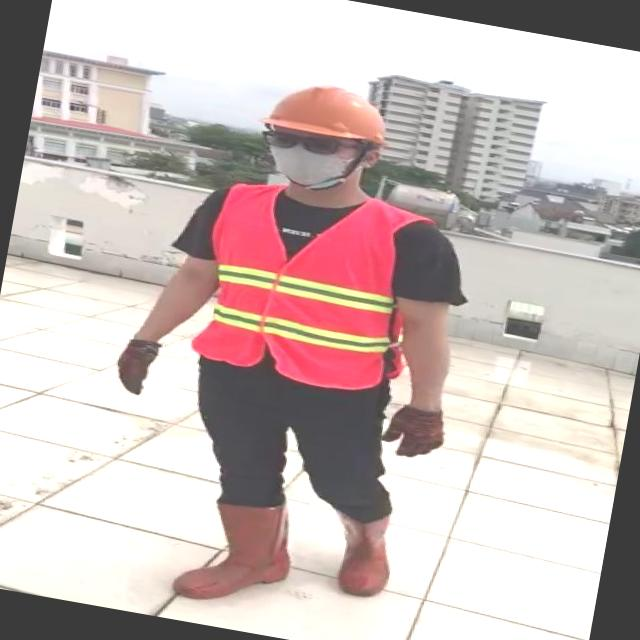boots: (168, 487, 304, 618), (322, 504, 402, 600)
gloves: (378, 383, 466, 472), (113, 316, 179, 406)
helmet: (250, 68, 404, 154)
vest: (188, 174, 432, 392)
